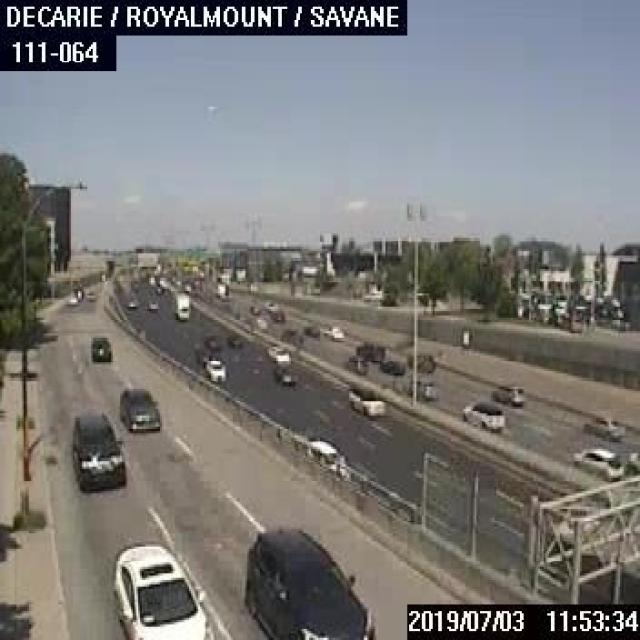pedestrian: (456, 324, 469, 356)
vehicle: (240, 524, 375, 638), (109, 538, 211, 638), (71, 410, 125, 490), (116, 382, 160, 434), (570, 444, 624, 480), (306, 435, 348, 476), (390, 370, 438, 400), (344, 384, 389, 416), (580, 411, 625, 442), (460, 399, 504, 430), (490, 382, 524, 404), (354, 339, 384, 360), (202, 356, 226, 382), (407, 351, 435, 372), (87, 336, 111, 360), (271, 361, 296, 384), (172, 289, 189, 318), (279, 326, 302, 347), (380, 356, 404, 374), (322, 323, 347, 340), (345, 354, 366, 374), (226, 333, 243, 349), (300, 325, 318, 336), (146, 298, 157, 309), (83, 289, 93, 299), (66, 296, 75, 304)
